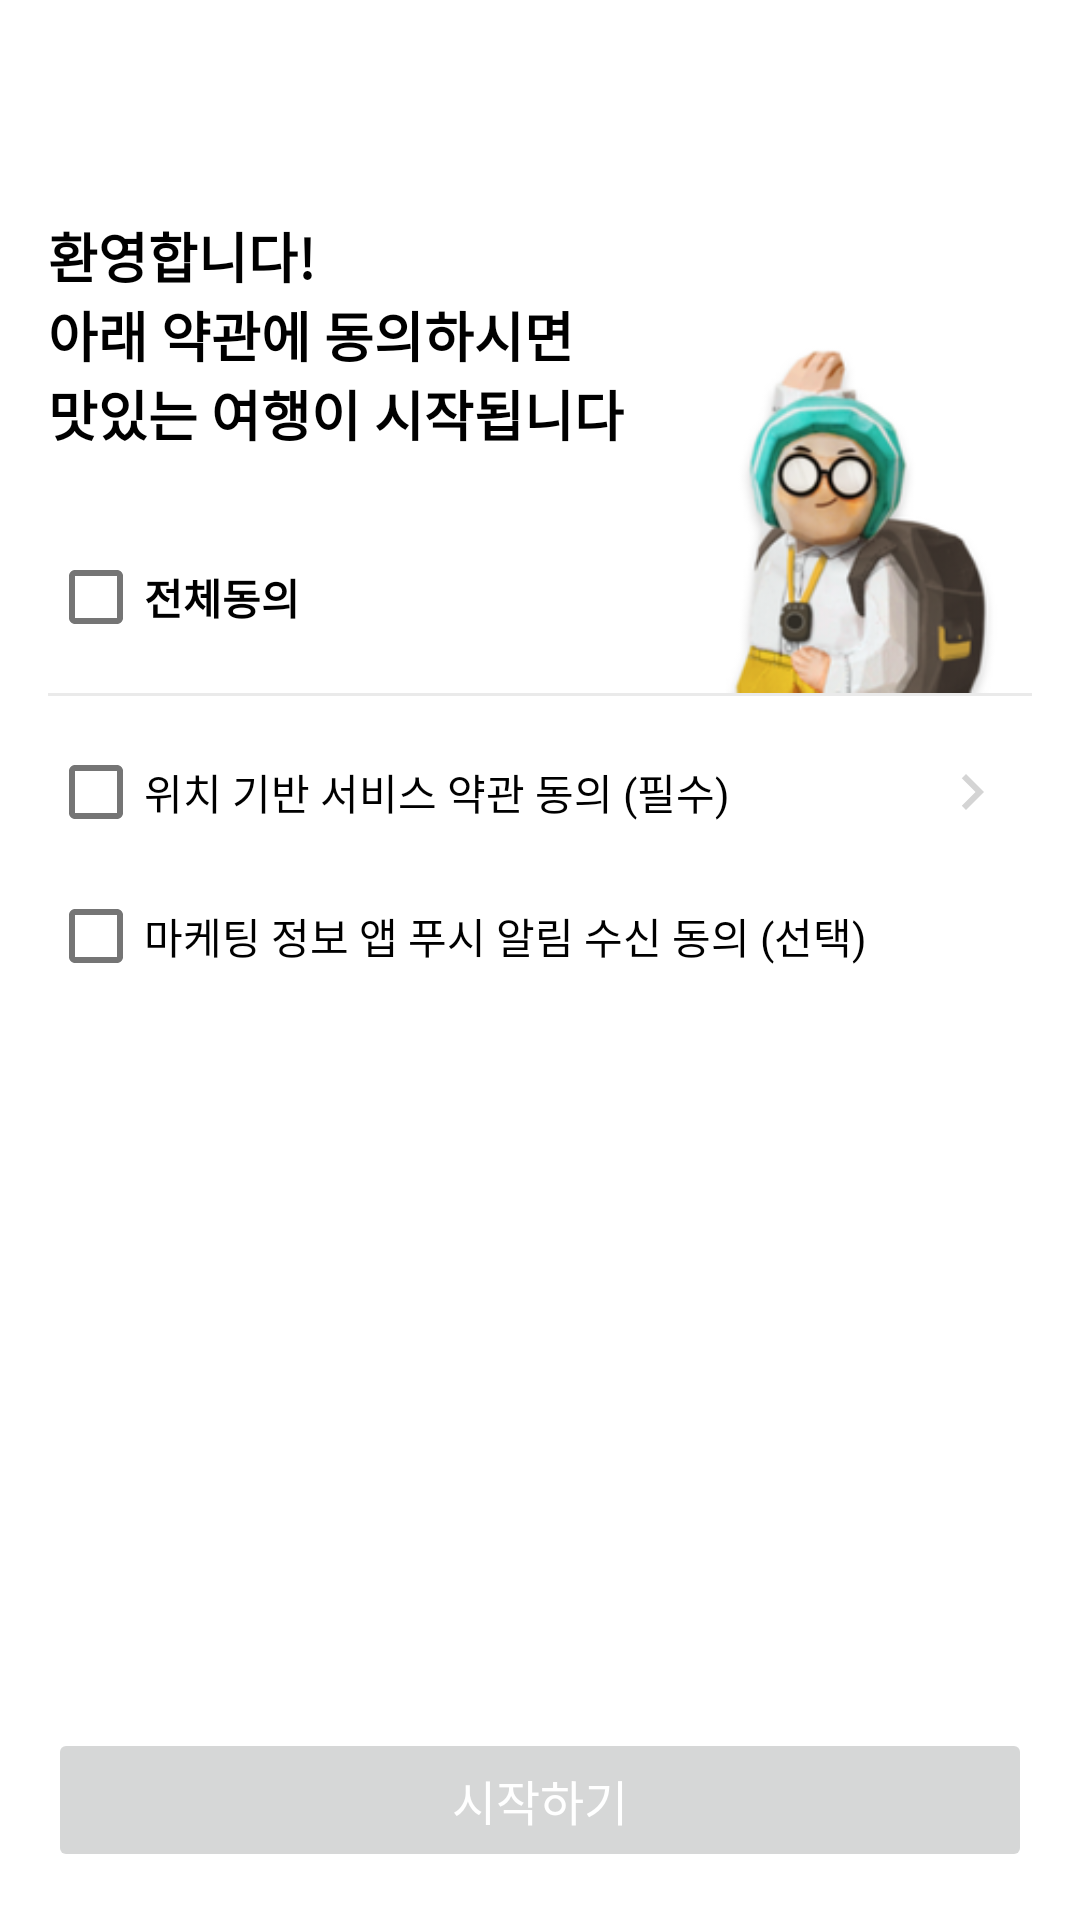

Locate icon controls on the screen. Image size 1080w x 1920h, boxes as (x1, y1, x2, y2).
위치 기반 서비스 약관 보기: (962, 775, 983, 809)
